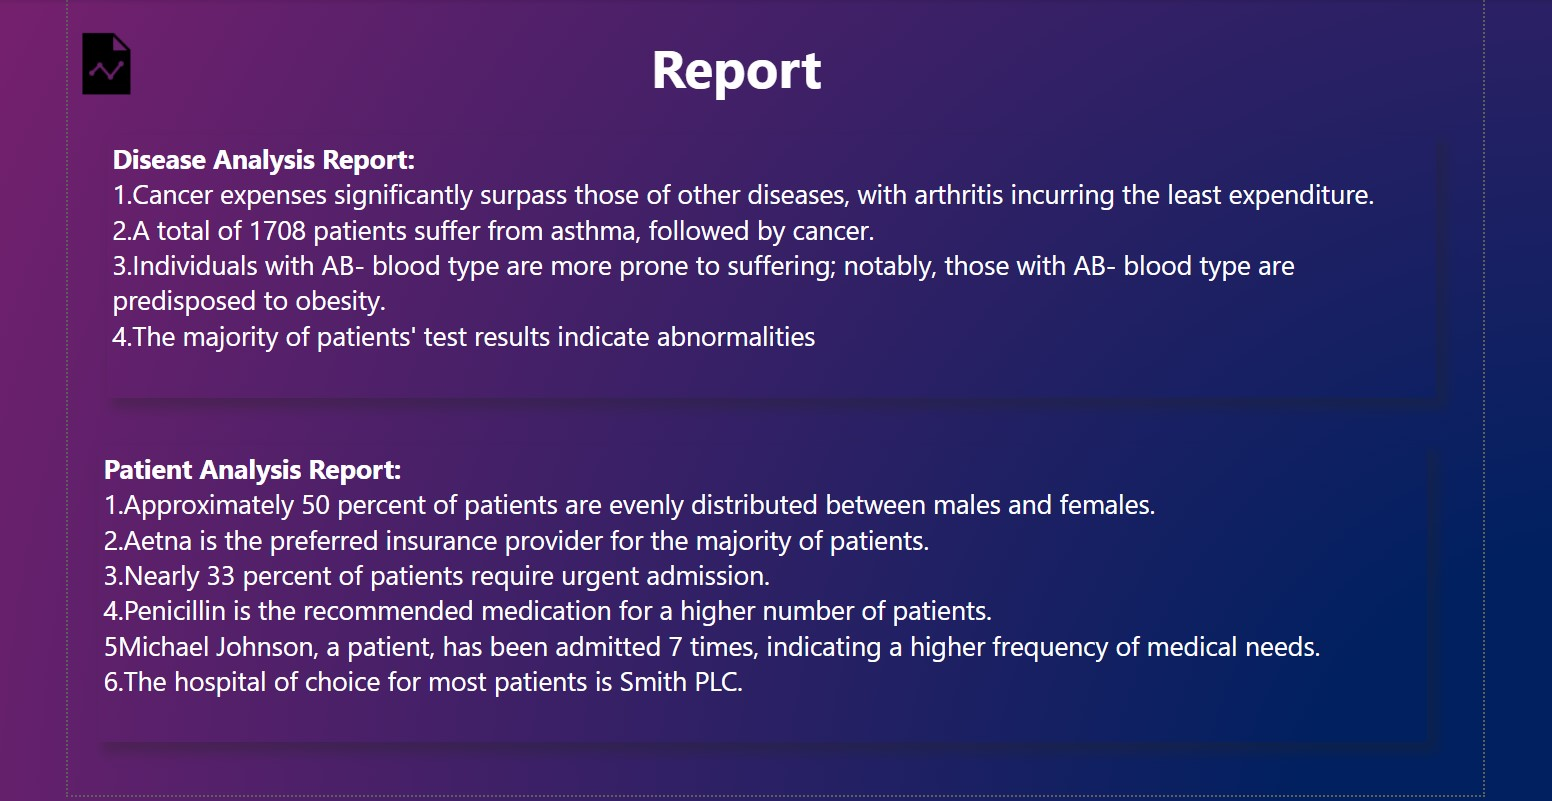

The page's visual inventory and layout, read from the dashboard file:
{"tool":"powerbi","page":{"name":"report","canvas":[1280,720],"ordinal":3},"visuals":[{"type":"textbox","box":[34.9,123.3,1202.3,237.2],"z":0},{"type":"textbox","box":[26.7,403.5,1202.3,268.6],"z":1000},{"type":"textbox","box":[522,23.2,187,74.6],"z":2000},{"type":"image","box":[0,23.2,69.7,69.7],"z":3000}]}

Visuals, with their boxes on the page's 1280x720 design canvas (x1, y1, x2, y2). These are canvas units, not pixel positions in the 1552x801 screenshot, which may show the page scaled, cropped or inside an application window:
textbox: 35 123 1237 360
textbox: 27 404 1229 672
textbox: 522 23 709 98
image: 0 23 70 93
